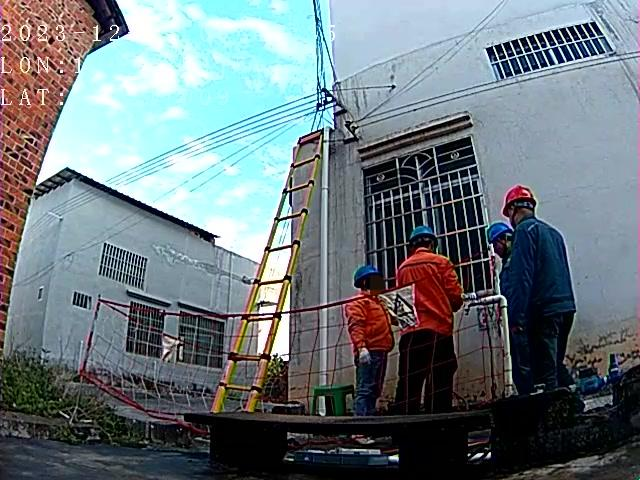halt: (503, 187, 541, 225), (490, 225, 517, 258), (355, 268, 385, 296), (411, 228, 440, 254)
inear: (363, 279, 379, 295)
